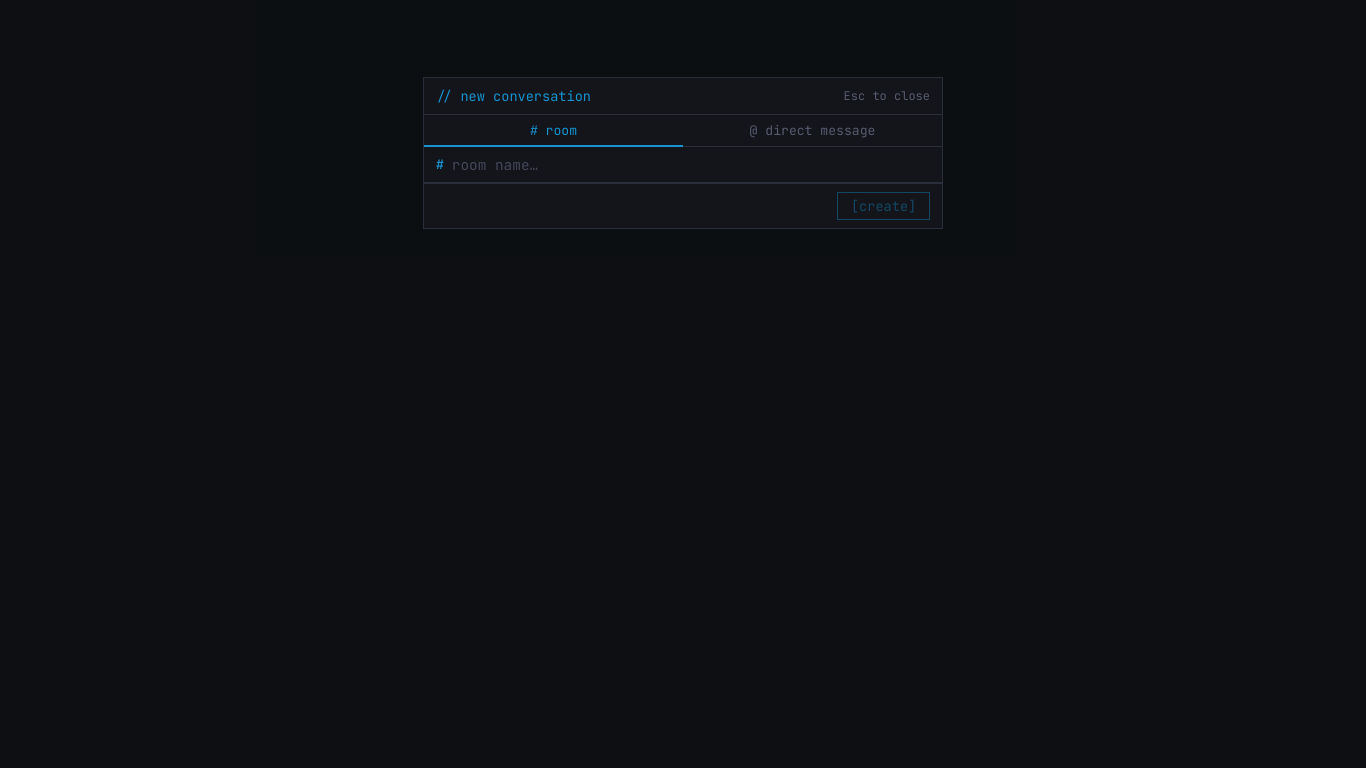
Test: NewConversationDialog › shows friendly error for M_NOT_FOUND
Click the tab "@ direct message".
click(812, 131)  # box [683, 115, 942, 146]
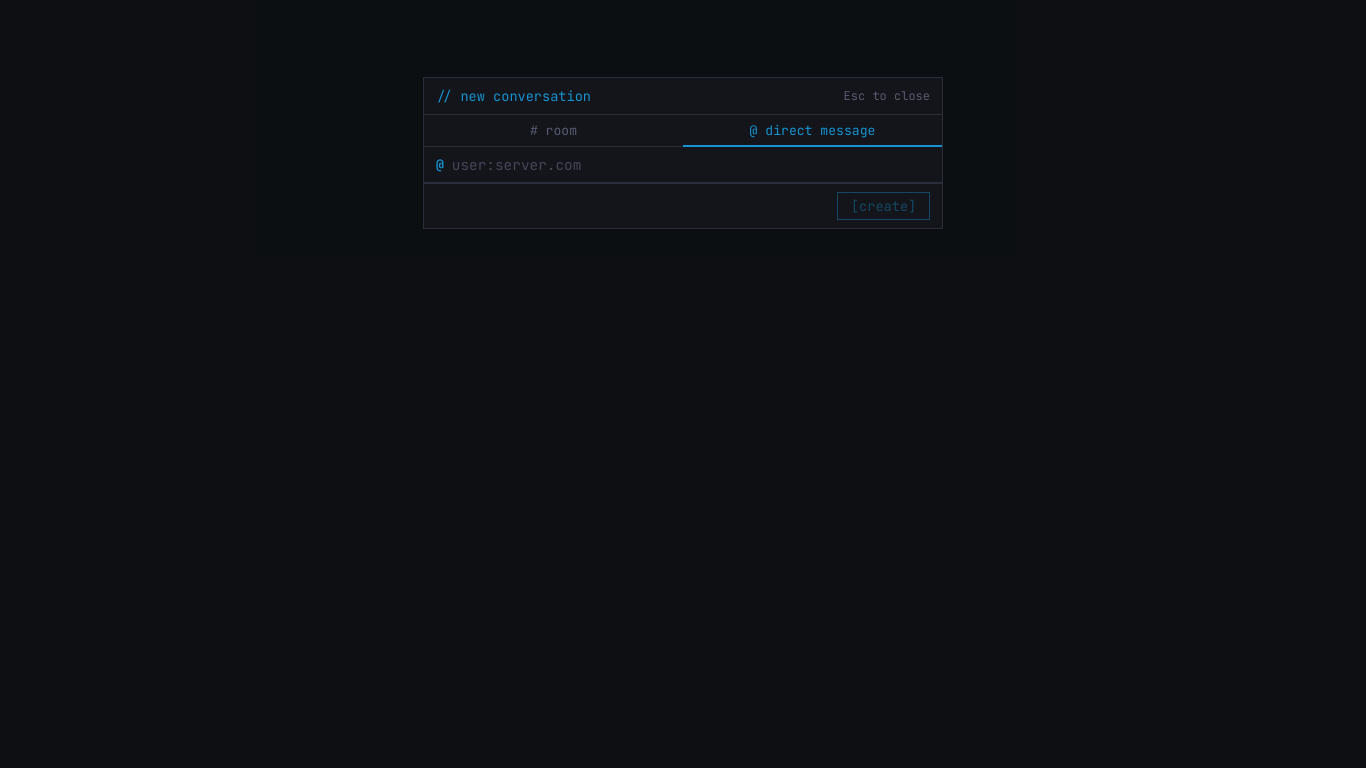
Type "@ghost:matrix.org" into the field with placeholder "user:server.com".
click(691, 165); type("@ghost:matrix.org")  # box [452, 155, 930, 174]
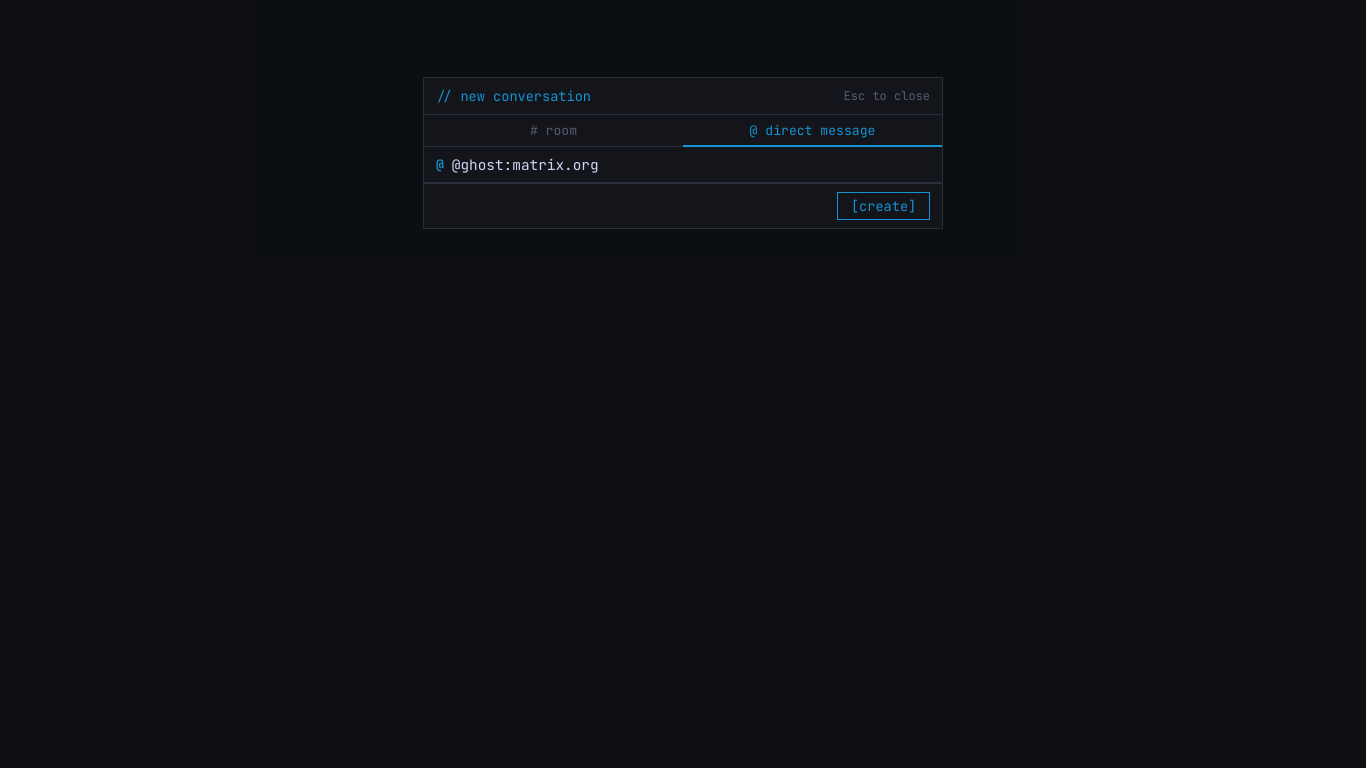
Click the button "[create]".
click(884, 206)  # box [837, 192, 930, 220]
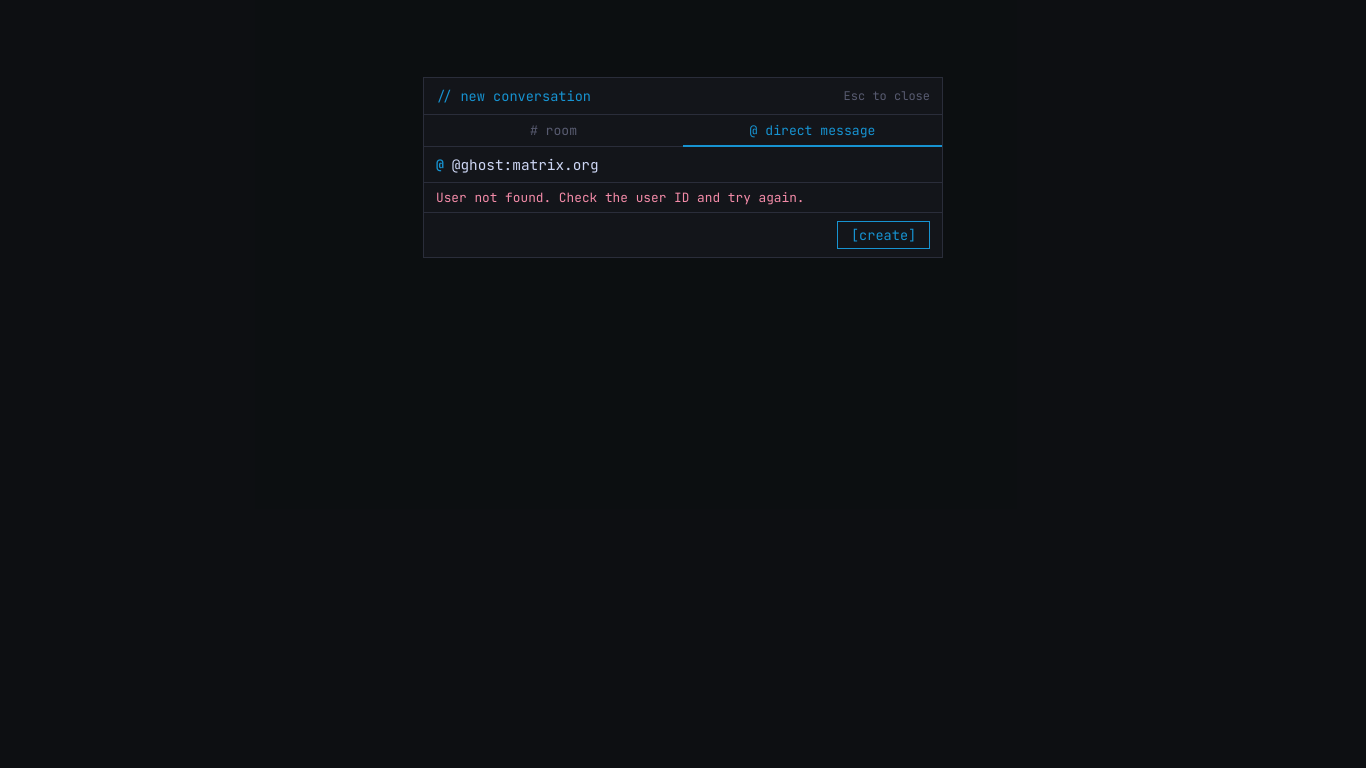
Expected: the text "User not found. Check the user ID and try again." is shown, [436, 189, 805, 206]
